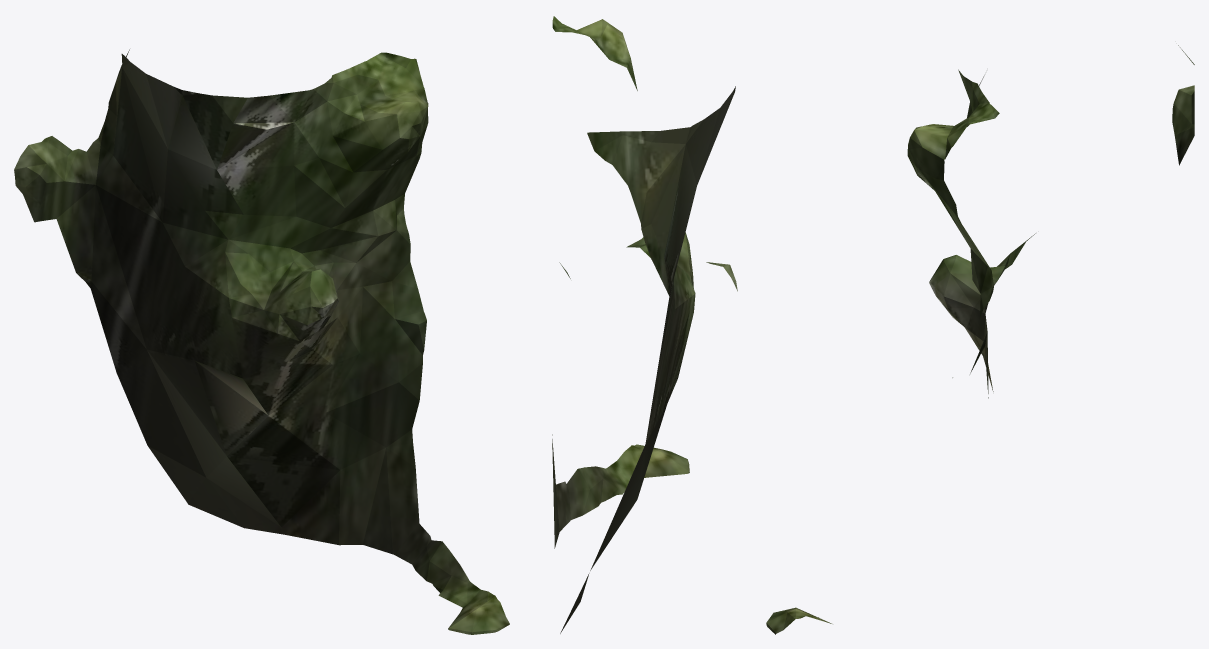
The picture shows the model from 3 angles, left to right: view 1: azimuth 30°, elevation 25°; view 2: azimuth 150°, elevation 25°; view 3: azimuth 270°, elevation 25°; orthographic projection. The views are drawn at different scales.
Size of the model in its own units: 1.82 by 2.95 by 2.24.
2 materials, 2 textured.
